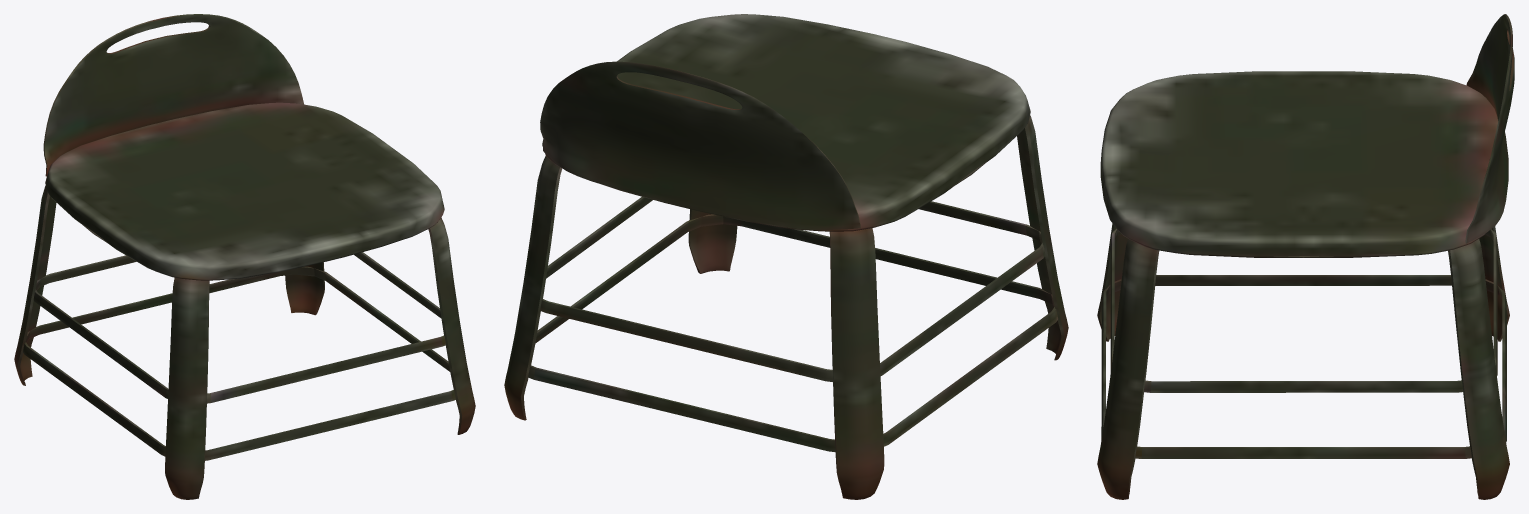
File: ph-metal-stool-03.glb
3 views of the same model, side by side, from view 1: azimuth 30°, elevation 25°; view 2: azimuth 150°, elevation 25°; view 3: azimuth 270°, elevation 25° (orthographic). The views are drawn at different scales.
Visible parts, largest first — view 1: metal_stool_03; view 2: metal_stool_03; view 3: metal_stool_03.
Part boxes in pixels (box(x1,y1,x2,y2)): metal_stool_03: box(14, 14, 475, 499); metal_stool_03: box(504, 14, 1068, 499); metal_stool_03: box(1097, 14, 1514, 499).
Bounding box in the file's own units: 1 × 1 × 1.
Materials: 1 (1 with a texture image).
